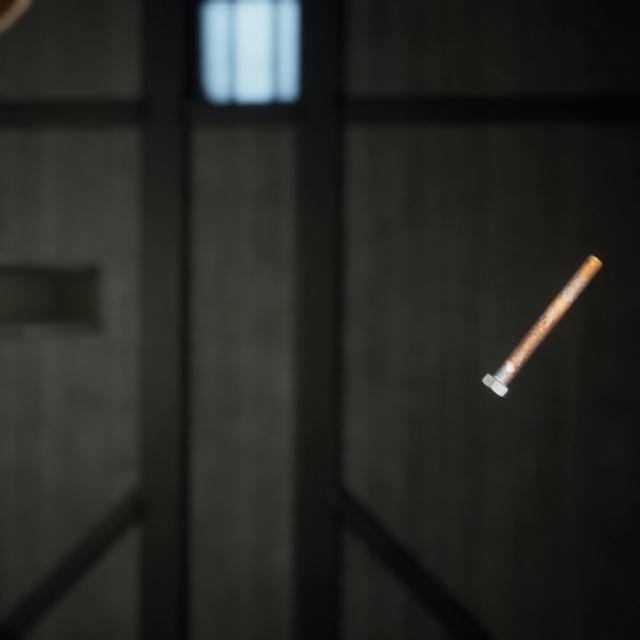bolt: (477, 232, 607, 385)
